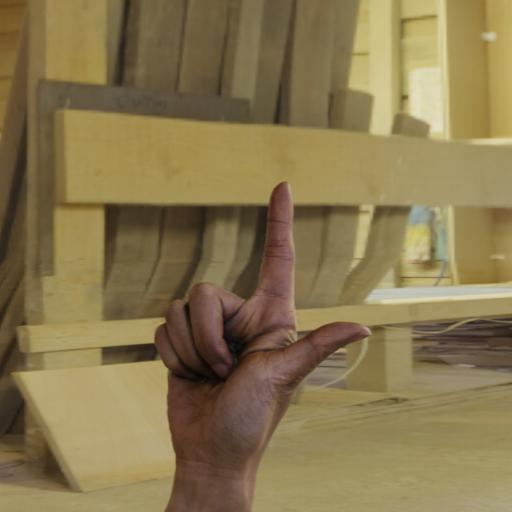L: (111, 162, 400, 496)
